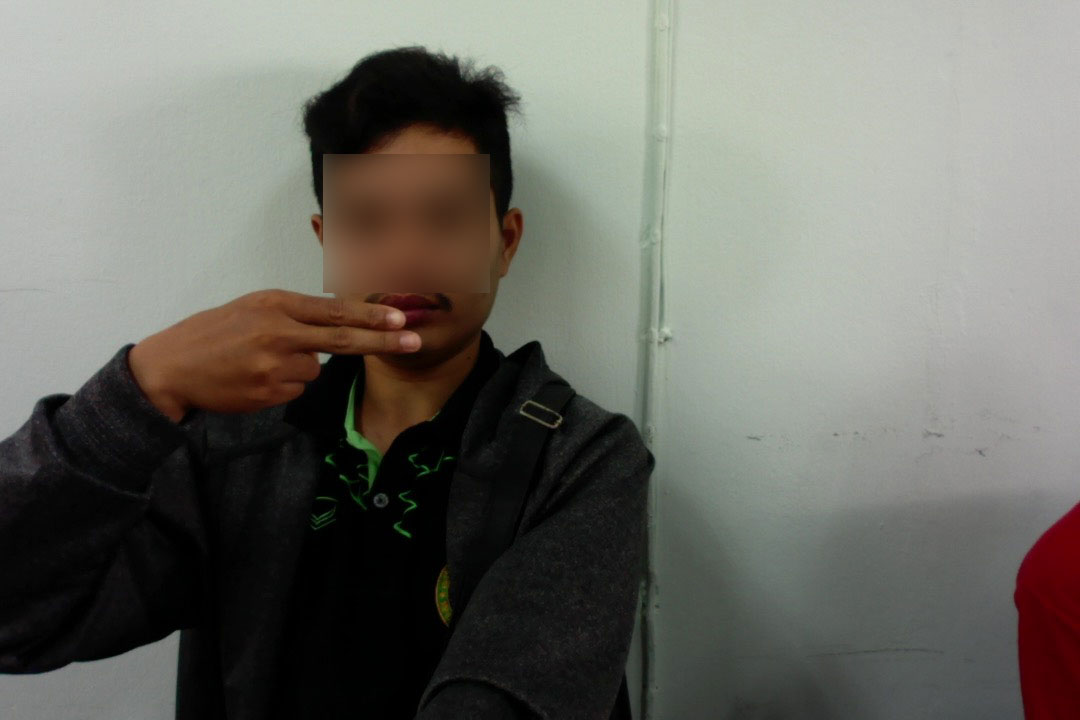hor: (141, 284, 425, 427)
